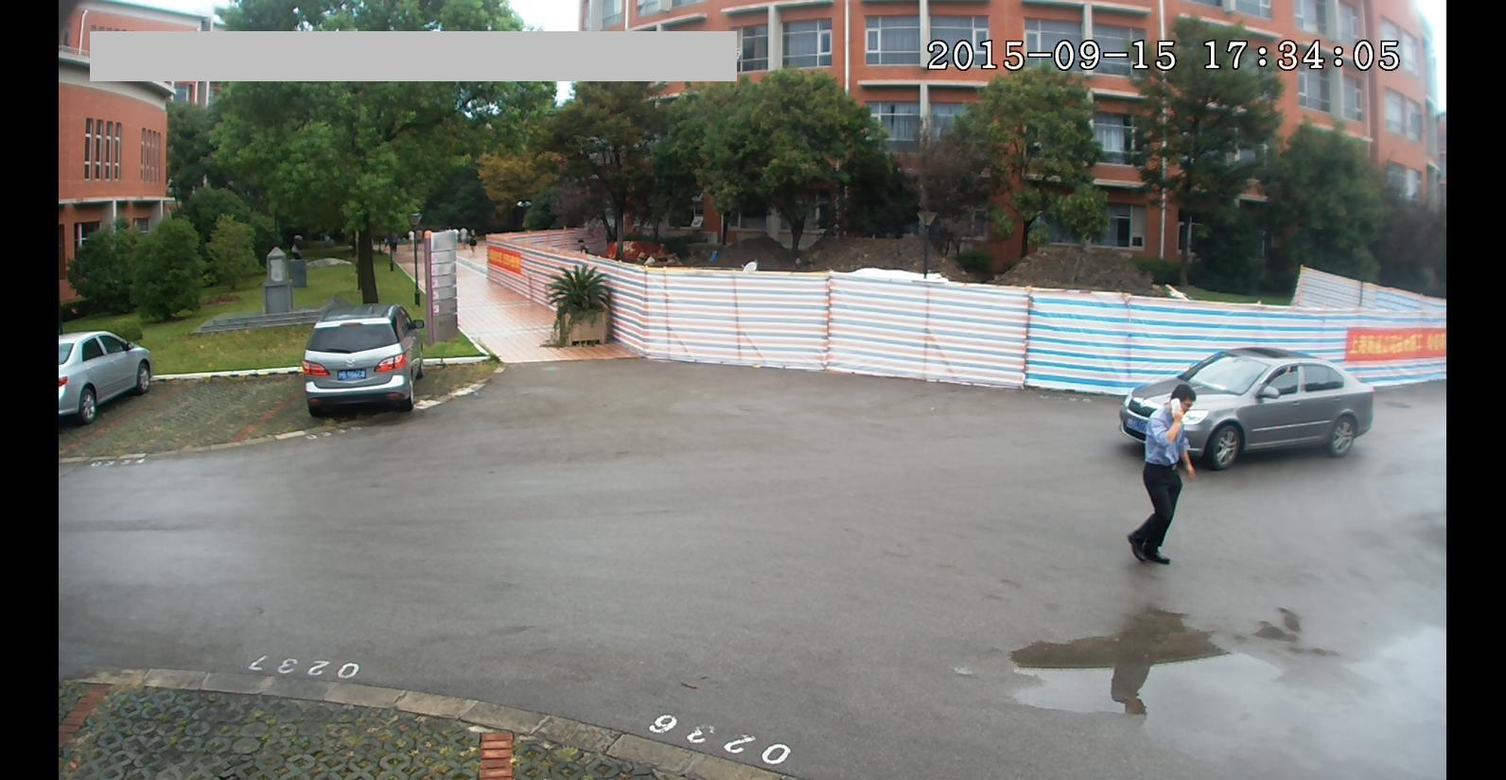person: (1120, 378, 1198, 577)
